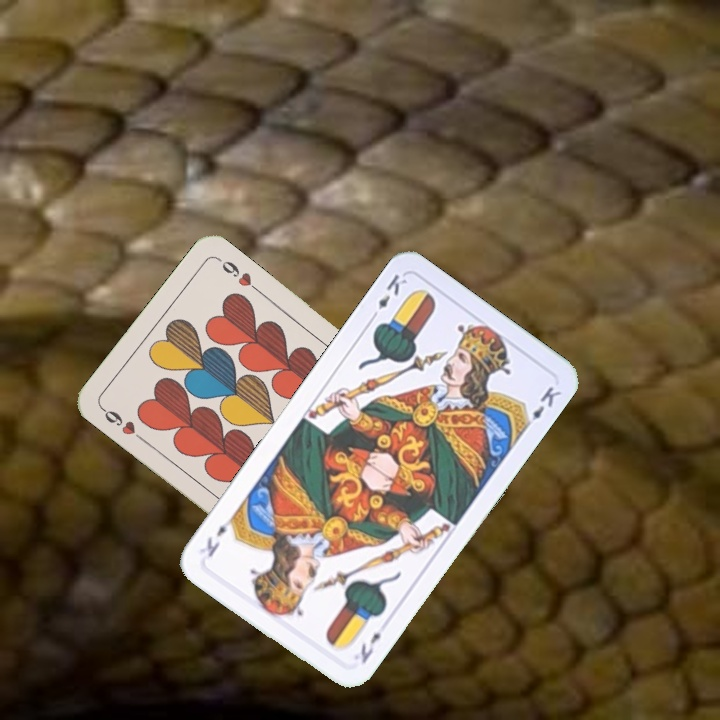EK: (366, 270, 410, 323), (356, 628, 384, 667)
H9: (97, 403, 148, 445)
